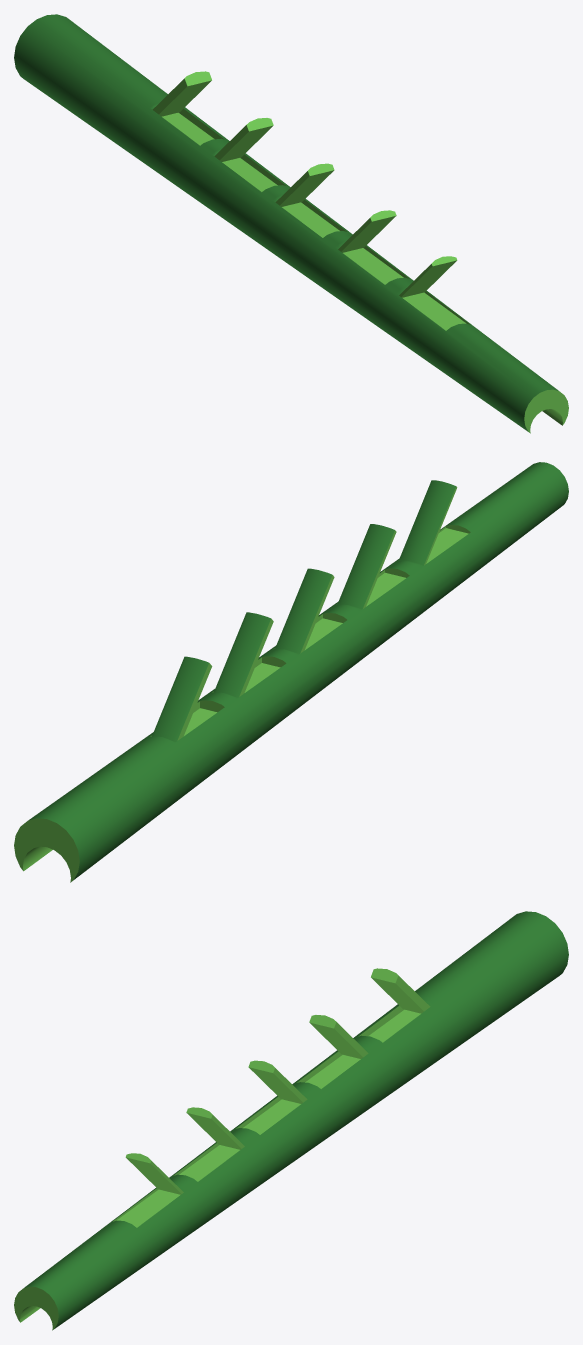
Rendered from bananaGun.fbx.
3 renders of one model, top to bottom at view 1: azimuth 30°, elevation 25°; view 2: azimuth 150°, elevation 25°; view 3: azimuth 330°, elevation 25°, orthographic.
Visible parts, largest first — view 1: pCylinder3; view 2: pCylinder3; view 3: pCylinder3.
Part boxes in pixels (bbox=[...]): pCylinder3: bbox=[14, 14, 568, 433]; pCylinder3: bbox=[14, 462, 568, 882]; pCylinder3: bbox=[14, 911, 568, 1330].
Bounding box in the file's own units: 2 × 3.19 × 26.29.
